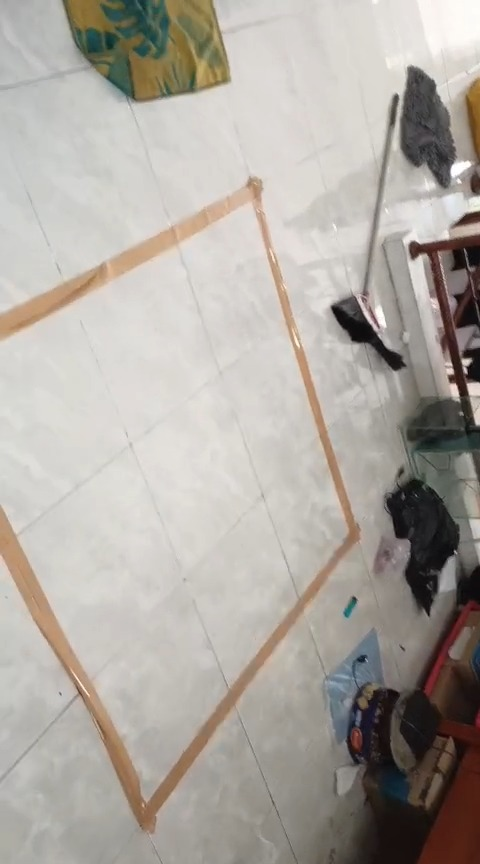floor marking: (0, 178, 359, 830)
